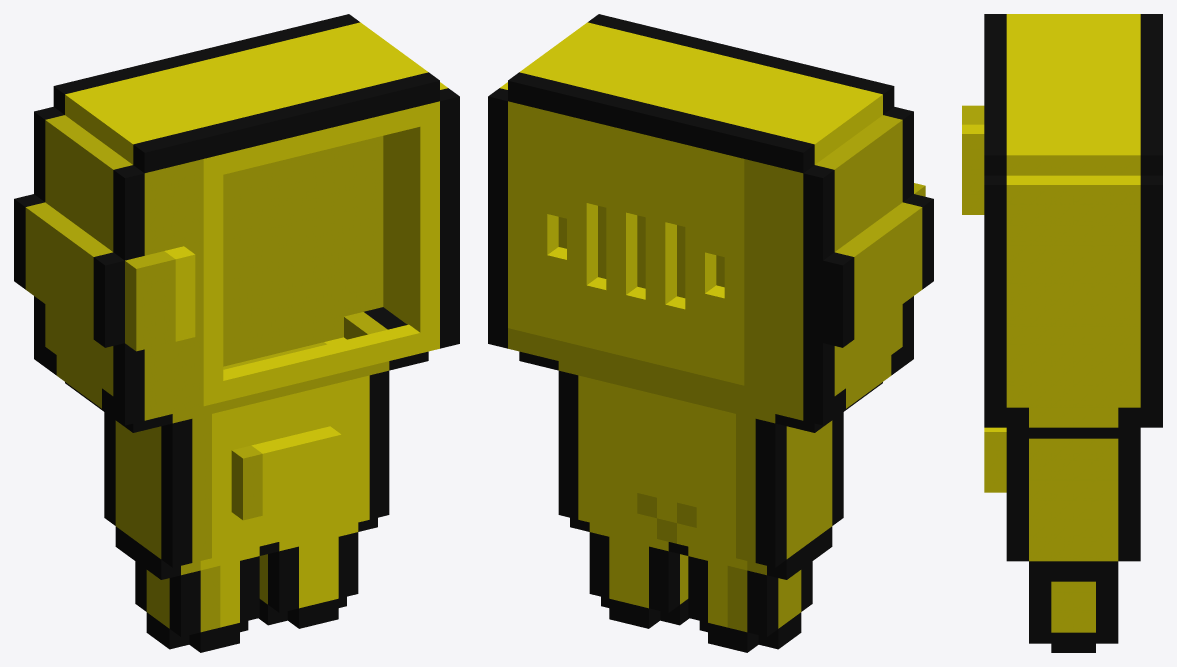
Rendered from body_yellow.glb.
3 views of the same model, side by side, from view 1: azimuth 30°, elevation 25°; view 2: azimuth 150°, elevation 25°; view 3: azimuth 270°, elevation 25° (orthographic).
Visible parts, largest first — view 1: bb0 body; view 2: bb0 body; view 3: bb0 body.
Part boxes in pixels (<box>): bb0 body: <box>14,14,459,652</box>; bb0 body: <box>488,14,933,652</box>; bb0 body: <box>962,14,1162,652</box>.
Bounding box in the file's own units: 18 × 26 × 9.
